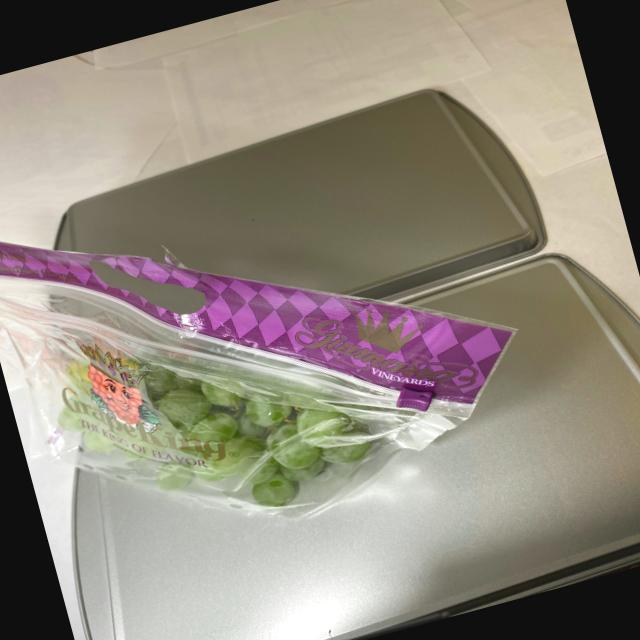grapes: (46, 287, 403, 558)
